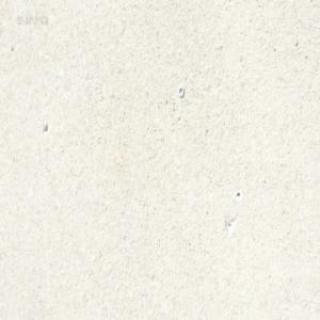Washertrack_idkeyframe: (177, 86, 184, 98)
